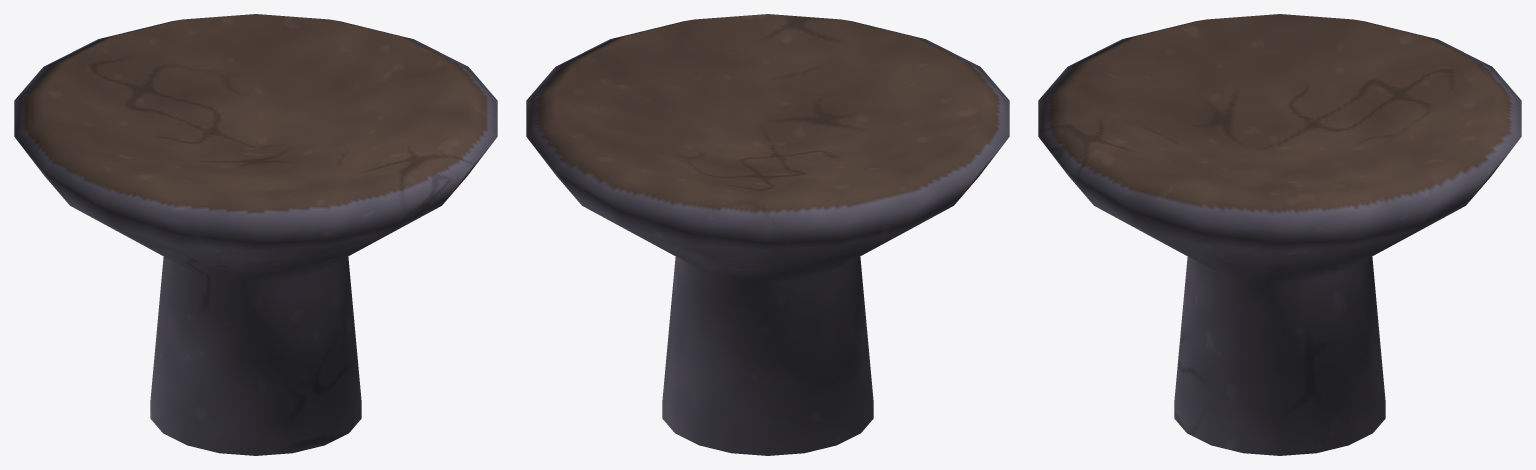
File: fire_bowl.glb
The picture shows the model from 3 angles, left to right: view 1: azimuth 30°, elevation 25°; view 2: azimuth 150°, elevation 25°; view 3: azimuth 270°, elevation 25°; orthographic projection.
Parts seen in each view (by area): view 1: FireBowl; view 2: FireBowl; view 3: FireBowl.
Part boxes in pixels (x1,y1,x2,y2): FireBowl: (14, 14, 497, 455); FireBowl: (526, 14, 1009, 455); FireBowl: (1038, 14, 1521, 455).
Bounding box in the file's own units: 1.6 × 1.1 × 1.58.
1 material, 1 textured.
